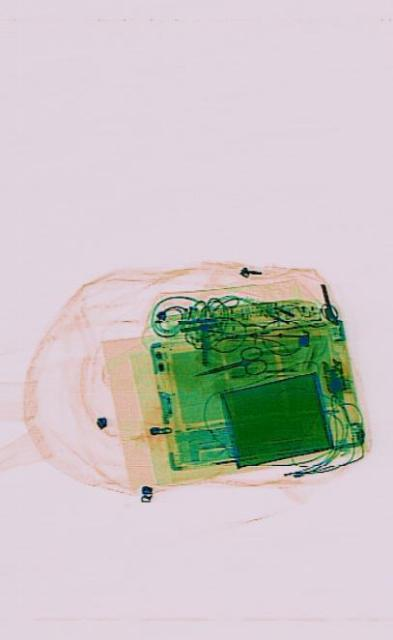Scissors: (192, 341, 267, 391)
